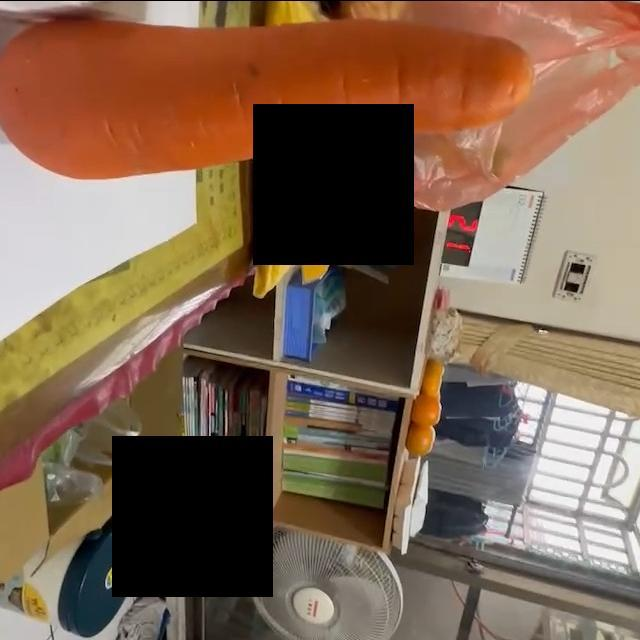carrot: (1, 21, 535, 185)
